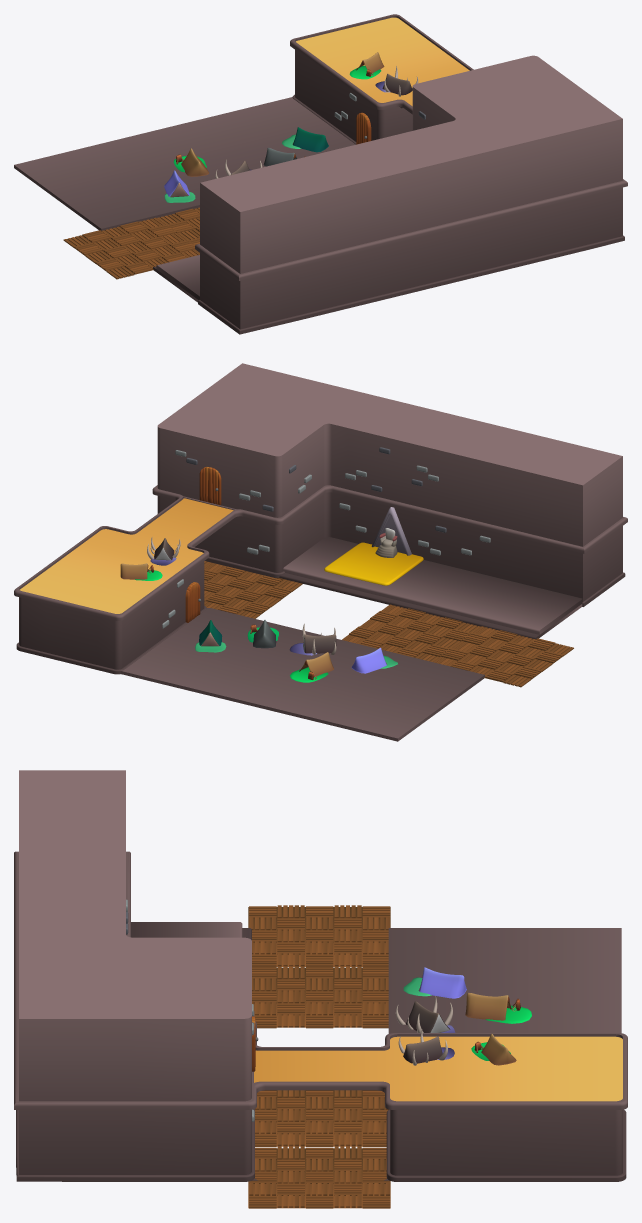
The model's file is Goblin map.fbx.
The picture shows the model from 3 angles, top to bottom: view 1: azimuth 30°, elevation 25°; view 2: azimuth 150°, elevation 25°; view 3: azimuth 270°, elevation 25°; orthographic projection. The views are drawn at different scales.
Visible parts, largest first — view 1: Plane, Plane.005, Plane.009, Plane.001, Plane.093, Plane.008, Plane.010, engineer_GEO.002, Plane.003, engineer_GEO.003; view 2: Plane, Plane.005, Plane.001, Plane.009, Plane.093, Plane.011, Plane.006, Plane.002, Cube.023, Plane.014, engineer_GEO.002, Cube.002 (+7 smaller); view 3: Plane, Plane.005, Plane.009, Plane.004, Plane.093, Plane.011, Plane.001, engineer_GEO.002, Plane.010, Plane.014, Plane.003, engineer_GEO.003.
Boxes of the visible parts, x1=… form: Plane: x1=195, y1=14, x2=627, y2=334; Plane.005: x1=14, y1=97, x2=355, y2=230; Plane.009: x1=63, y1=217, x2=199, y2=279; Plane.001: x1=156, y1=255, x2=199, y2=299; Plane.093: x1=157, y1=207, x2=199, y2=245; Plane.008: x1=282, y1=127, x2=328, y2=152; Plane.010: x1=164, y1=170, x2=195, y2=202; engineer_GEO.002: x1=173, y1=148, x2=209, y2=176; Plane.003: x1=375, y1=66, x2=418, y2=96; engineer_GEO.003: x1=349, y1=52, x2=384, y2=79; Plane: x1=14, y1=363, x2=627, y2=674; Plane.005: x1=121, y1=608, x2=484, y2=741; Plane.001: x1=283, y1=537, x2=582, y2=634; Plane.009: x1=433, y1=626, x2=573, y2=687; Plane.093: x1=342, y1=604, x2=480, y2=661; Plane.011: x1=204, y1=562, x2=302, y2=618; Plane.006: x1=324, y1=542, x2=423, y2=585; Plane.002: x1=279, y1=573, x2=582, y2=639; Cube.023: x1=162, y1=450, x2=490, y2=628; Plane.014: x1=289, y1=623, x2=336, y2=655; engineer_GEO.002: x1=290, y1=652, x2=333, y2=682; Cube.002: x1=199, y1=466, x2=221, y2=505; Plane: x1=14, y1=770, x2=627, y2=1181; Plane.005: x1=388, y1=928, x2=621, y2=1033; Plane.009: x1=248, y1=905, x2=390, y2=967; Plane.004: x1=248, y1=1146, x2=390, y2=1208; Plane.093: x1=252, y1=966, x2=388, y2=1028; Plane.011: x1=255, y1=1090, x2=388, y2=1146; Plane.001: x1=131, y1=922, x2=242, y2=937; engineer_GEO.002: x1=465, y1=992, x2=531, y2=1023; Plane.010: x1=403, y1=967, x2=466, y2=998; Plane.014: x1=395, y1=996, x2=455, y2=1032; Plane.003: x1=398, y1=1029, x2=454, y2=1065; engineer_GEO.003: x1=471, y1=1033, x2=516, y2=1065.
Bounding box in the file's own units: 2583 × 672 × 2254.
